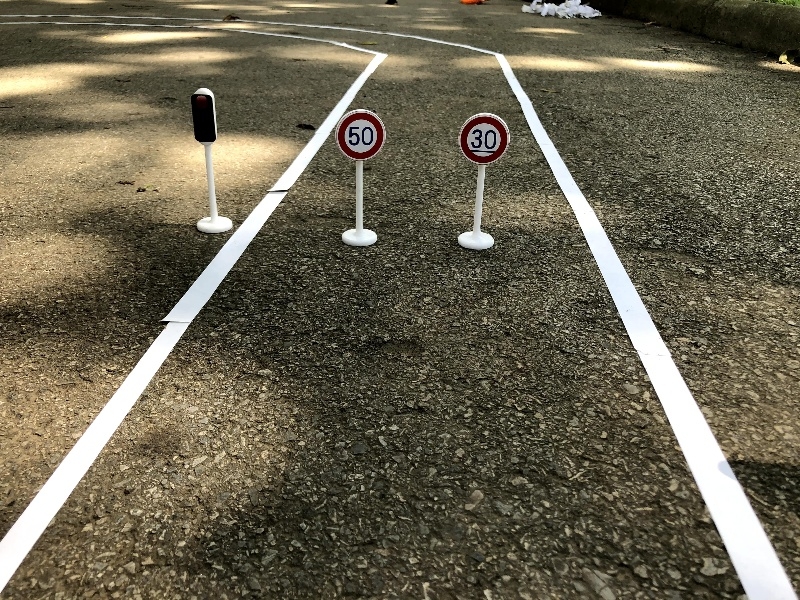Bien_bao_30: (444, 113, 519, 256)
Bien_bao_50: (323, 105, 398, 258)
Den_Do: (173, 79, 248, 243)
